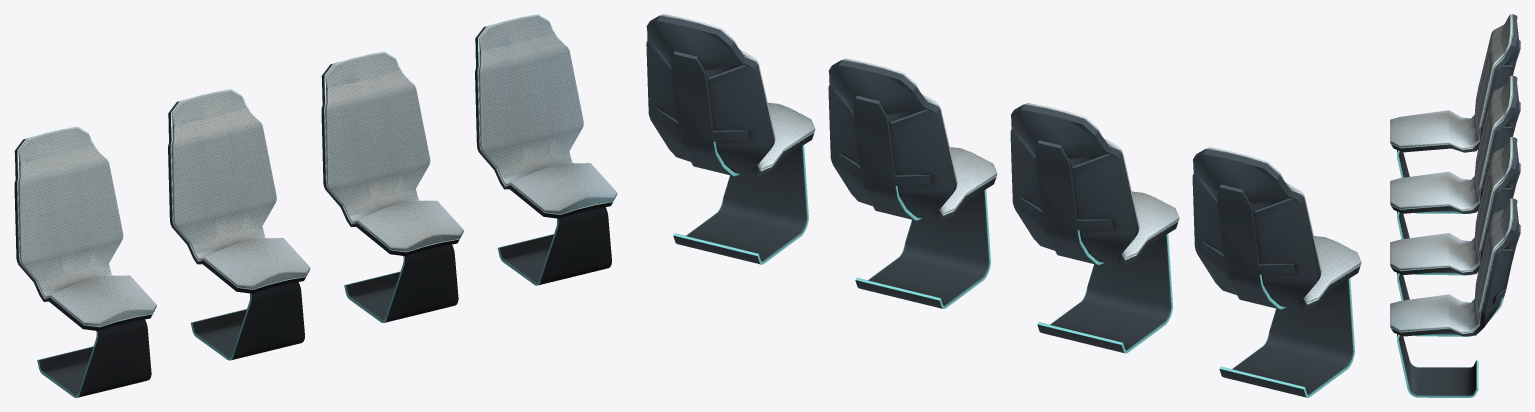
File: SciFi_Conf_Room_Chair_Set03.FBX
3 views of the same model, side by side, from view 1: azimuth 30°, elevation 25°; view 2: azimuth 150°, elevation 25°; view 3: azimuth 270°, elevation 25° (orthographic). The views are drawn at different scales.
Visible parts, largest first — view 1: SciFi_Conf_Room_Chair_08, SciFi_Conf_Room_Chair_10, SciFi_Conf_Room_Chair_07, SciFi_Conf_Room_Chair_09; view 2: SciFi_Conf_Room_Chair_08, SciFi_Conf_Room_Chair_07, SciFi_Conf_Room_Chair_10, SciFi_Conf_Room_Chair_09; view 3: SciFi_Conf_Room_Chair_07, SciFi_Conf_Room_Chair_08, SciFi_Conf_Room_Chair_09, SciFi_Conf_Room_Chair_10.
Boxes of the visible parts, x1=… form: SciFi_Conf_Room_Chair_08: x1=321, y1=51, x2=463, y2=322; SciFi_Conf_Room_Chair_10: x1=14, y1=126, x2=156, y2=397; SciFi_Conf_Room_Chair_07: x1=475, y1=14, x2=617, y2=285; SciFi_Conf_Room_Chair_09: x1=168, y1=89, x2=310, y2=360; SciFi_Conf_Room_Chair_08: x1=828, y1=58, x2=997, y2=308; SciFi_Conf_Room_Chair_07: x1=646, y1=14, x2=815, y2=264; SciFi_Conf_Room_Chair_10: x1=1192, y1=147, x2=1361, y2=397; SciFi_Conf_Room_Chair_09: x1=1010, y1=103, x2=1179, y2=353; SciFi_Conf_Room_Chair_07: x1=1390, y1=198, x2=1520, y2=397; SciFi_Conf_Room_Chair_08: x1=1390, y1=137, x2=1520, y2=336; SciFi_Conf_Room_Chair_09: x1=1390, y1=75, x2=1520, y2=275; SciFi_Conf_Room_Chair_10: x1=1390, y1=14, x2=1520, y2=213.
Size of the model in its own units: 3574 by 1302 by 873.
1 material, 1 textured.
